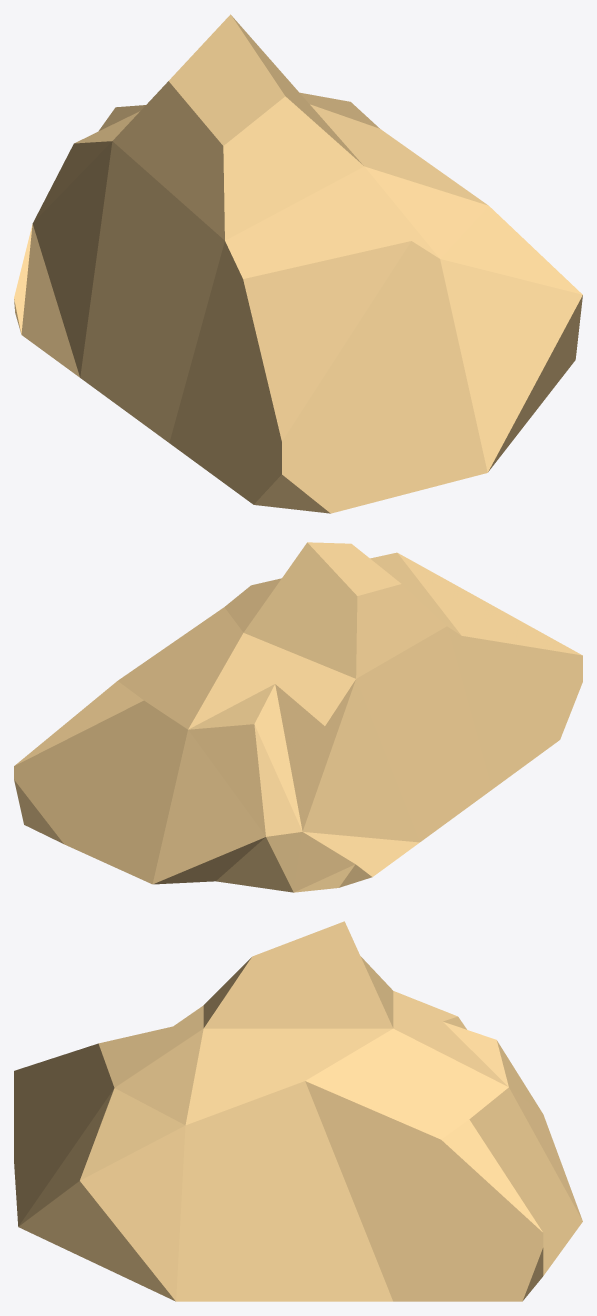
Rendered from 3x2 Rock.fbx.
3 renders of one model, top to bottom at view 1: azimuth 30°, elevation 25°; view 2: azimuth 150°, elevation 25°; view 3: azimuth 270°, elevation 25°, orthographic. The views are drawn at different scales.
Parts seen in each view (by area): view 1: 3x2 Rock; view 2: 3x2 Rock; view 3: 3x2 Rock.
Boxes of the visible parts, x1,y1,x2,y2 form: 3x2 Rock: [14, 14, 582, 513]; 3x2 Rock: [14, 542, 582, 892]; 3x2 Rock: [14, 921, 582, 1301].
Bounding box in the file's own units: 200 × 163 × 300.
